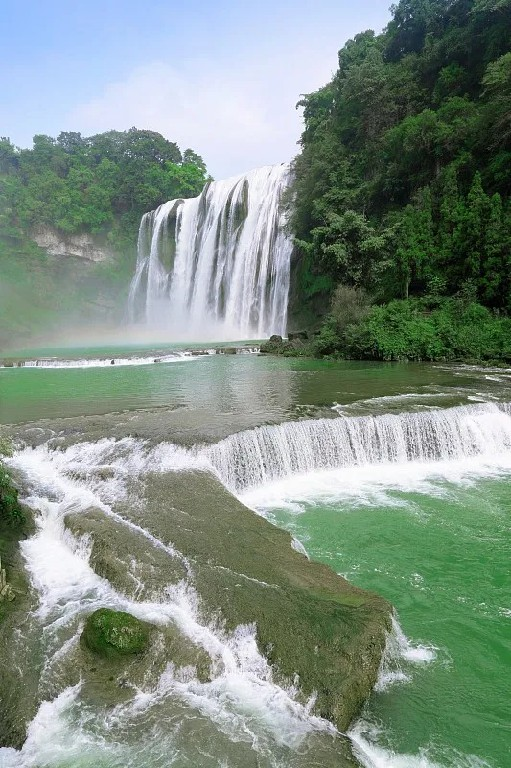Huangguoshu: (126, 163, 294, 346)
